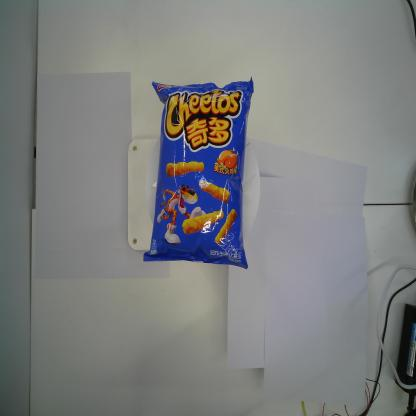Puffed Food: (141, 76, 249, 271)
